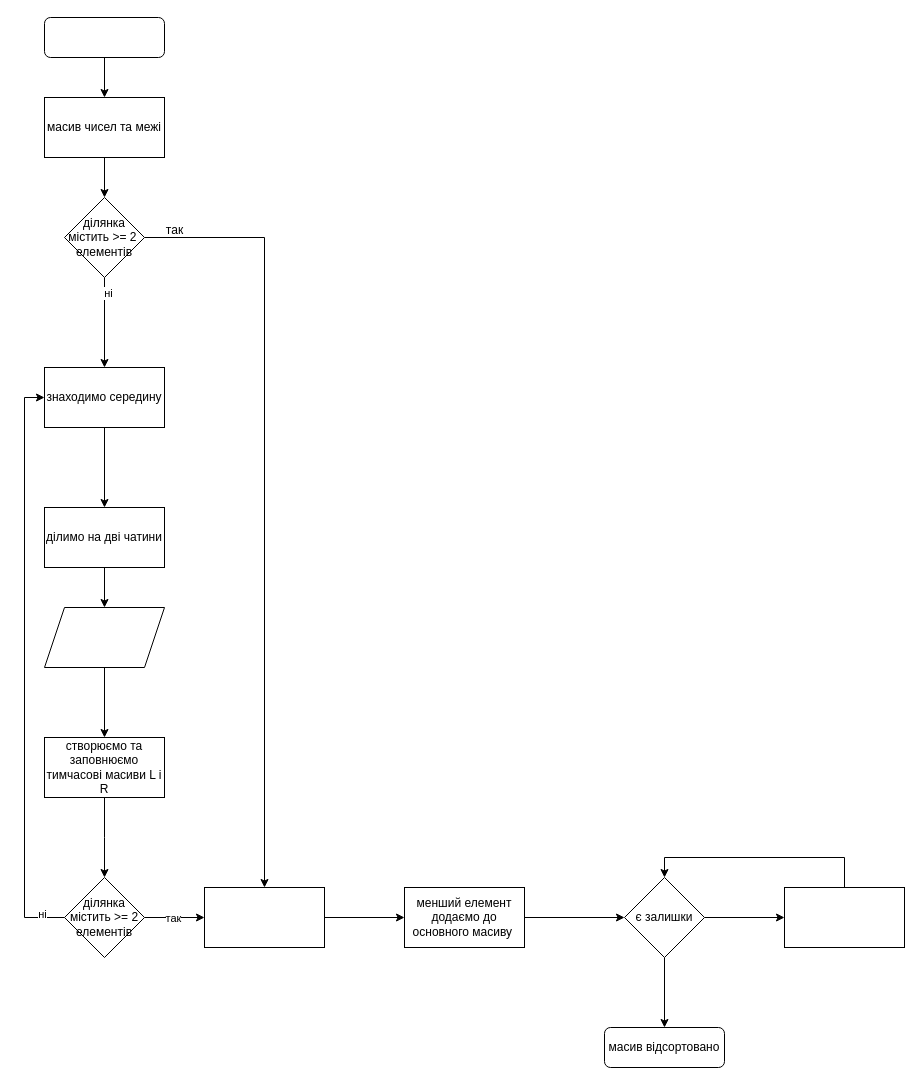
Image size: 922x1085. Some labels were removed from this diagram. The shapes that lost their labels are listed below. From the top down, each one's box as (x1, y1, x2, y2) in pixels, then its label:
(44, 16, 164, 58): початок
(44, 606, 164, 668): паралельно для лівої і правої частини
(204, 886, 324, 948): беремо найменший елемент з верху кожної стопки
(784, 886, 904, 948): додаємо по порядку
